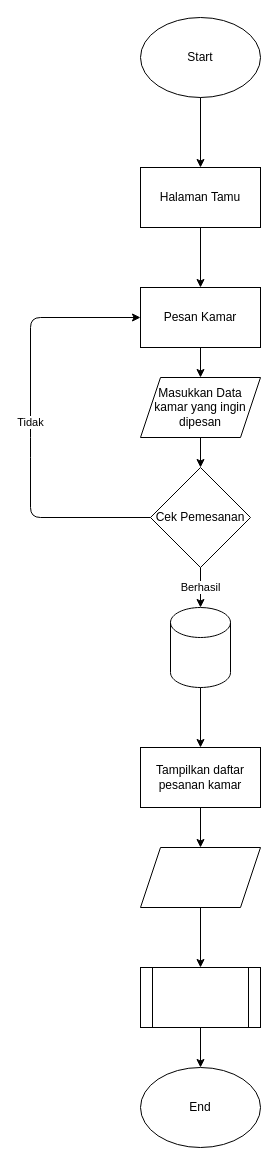
Some shapes in this 278 by 1165 pixel diagram are drawn without their labels. Here are the shapes that lost their labels. From the top down, the centre of each, then its label:
the point at 200,647: Database
the point at 200,877: Upload bukti pembayaran
the point at 200,997: hasil konfirmasi dari resepsionis
